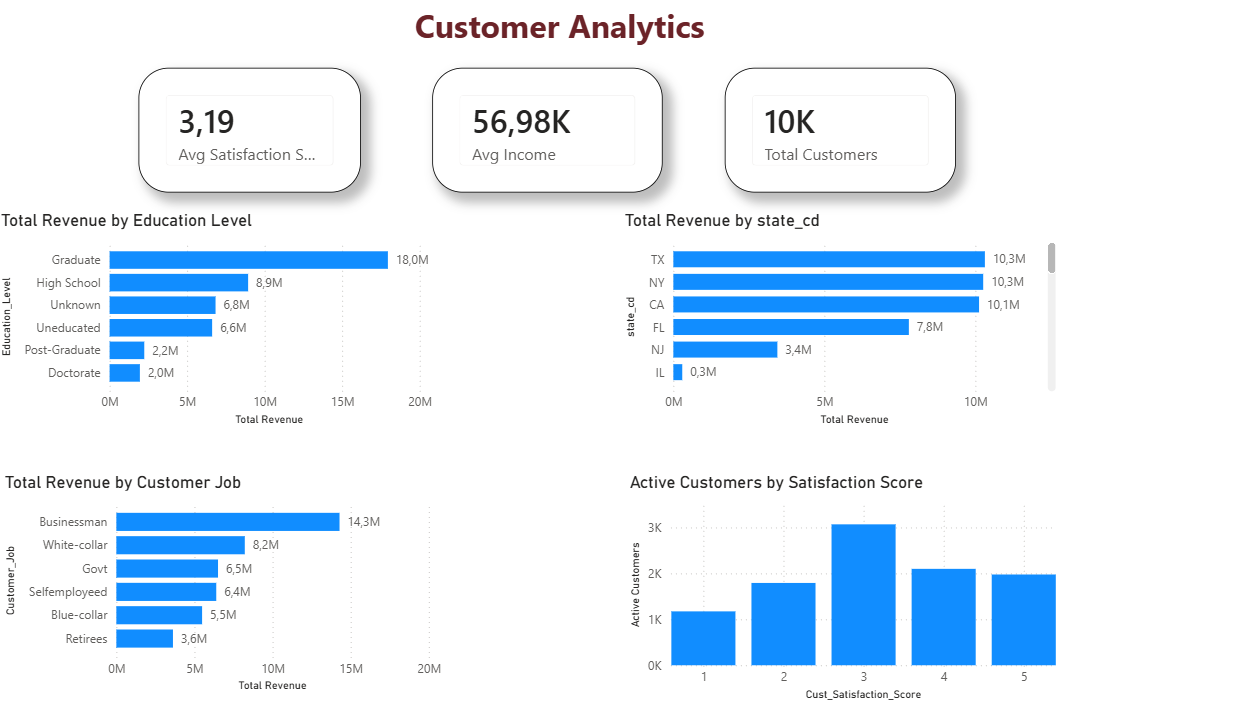

The dashboard page shown, as its layout file describes it:
{"tool":"powerbi","page":{"name":"Customer Analytics","canvas":[1280,720],"ordinal":1},"visuals":[{"type":"clusteredBarChart","title":"Total Revenue by Education Level","fields":{"Category":["customer.Education_Level"],"Y":["Measure.Total Revenue"]},"box":[0,211.2,450,220],"z":0},{"type":"clusteredBarChart","title":"Total Revenue by Customer Job","fields":{"Category":["customer.Customer_Job"],"Y":["Measure.Total Revenue"]},"box":[3.8,472.5,446.2,225],"z":1000},{"type":"clusteredBarChart","fields":{"Category":["customer.state_cd"],"Y":["Measure.Total Revenue"]},"box":[623.8,211.2,441.2,220],"z":2000},{"type":"clusteredColumnChart","title":"Active Customers by Satisfaction Score","fields":{"Category":["customer.Cust_Satisfaction_Score"],"Y":["Measure.Active Customers"]},"box":[628.8,472.5,436.2,233.8],"z":3000},{"type":"cardVisual","fields":{"Data":["Measure.Avg Income"]},"box":[436.2,68.8,230,125],"z":4000},{"type":"cardVisual","fields":{"Data":["Measure.Total Customers"]},"box":[728.8,68.8,231.2,125],"z":5000},{"type":"cardVisual","fields":{"Data":["Measure.Avg Satisfaction Score"]},"box":[142.5,68.8,222.5,125],"z":6000},{"type":"textbox","box":[413.8,0,336.2,55],"z":7000}]}

Visuals, with their boxes in screenshot pixels (x1, y1, x2, y2), scaled from the page's 1280x720 canvas onto the 1252x702 screenshot:
"Total Revenue by Education Level" clusteredBarChart: {"x1": 0, "y1": 206, "x2": 440, "y2": 420}
"Total Revenue by Customer Job" clusteredBarChart: {"x1": 4, "y1": 461, "x2": 440, "y2": 680}
clusteredBarChart - customer.state_cd x Measure.Total Revenue: {"x1": 610, "y1": 206, "x2": 1042, "y2": 420}
"Active Customers by Satisfaction Score" clusteredColumnChart: {"x1": 615, "y1": 461, "x2": 1042, "y2": 689}
cardVisual - Measure.Avg Income: {"x1": 427, "y1": 67, "x2": 652, "y2": 189}
cardVisual - Measure.Total Customers: {"x1": 713, "y1": 67, "x2": 939, "y2": 189}
cardVisual - Measure.Avg Satisfaction Score: {"x1": 139, "y1": 67, "x2": 357, "y2": 189}
textbox: {"x1": 405, "y1": 0, "x2": 734, "y2": 54}
